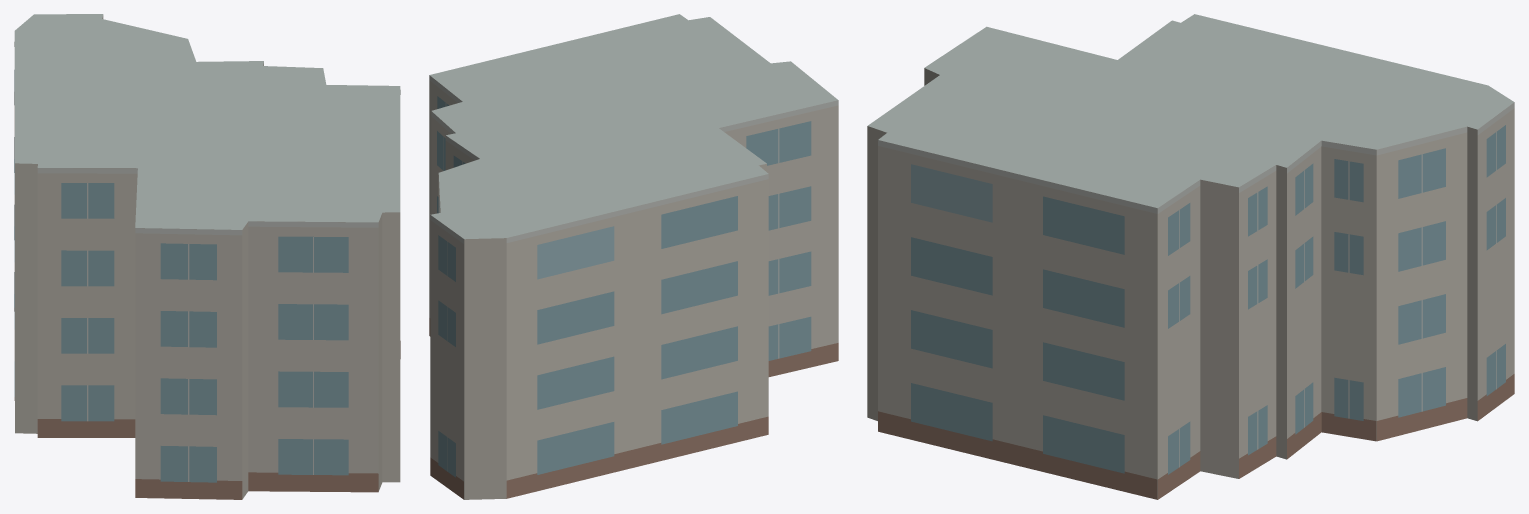
Rendered from survey-upis-32915288.glb.
The picture shows the model from 3 angles, left to right: view 1: azimuth 30°, elevation 25°; view 2: azimuth 150°, elevation 25°; view 3: azimuth 270°, elevation 25°; orthographic projection. The views are drawn at different scales.
Parts seen in each view (by area): view 1: survey-upis-32915288.tmp; view 2: survey-upis-32915288.tmp; view 3: survey-upis-32915288.tmp.
Boxes of the visible parts, x1,y1,x2,y2 form: survey-upis-32915288.tmp: (14, 14, 400, 499); survey-upis-32915288.tmp: (429, 14, 838, 499); survey-upis-32915288.tmp: (867, 14, 1514, 499).
Bounding box in the file's own units: 17.43 × 12.2 × 24.54.
